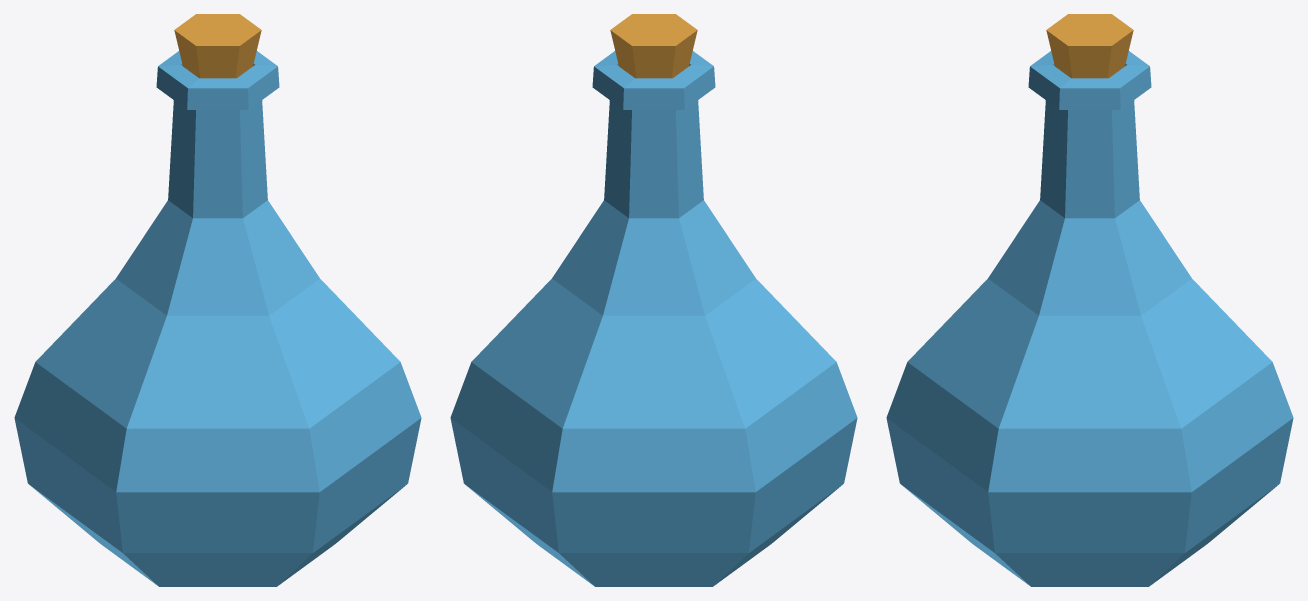
Rendered from SM_Bottle_Alchemy_D.fbx.
3 views of the same model, side by side, from view 1: azimuth 30°, elevation 25°; view 2: azimuth 150°, elevation 25°; view 3: azimuth 270°, elevation 25° (orthographic).
Visible parts, largest first — view 1: bottle-alchemy-d; view 2: bottle-alchemy-d; view 3: bottle-alchemy-d.
Part boxes in pixels (x1,y1,x2,y2): bottle-alchemy-d: (14, 14, 421, 586); bottle-alchemy-d: (450, 14, 857, 586); bottle-alchemy-d: (886, 14, 1293, 586).
Size of the model in its own units: 0.1235 by 0.1986 by 0.1426.
